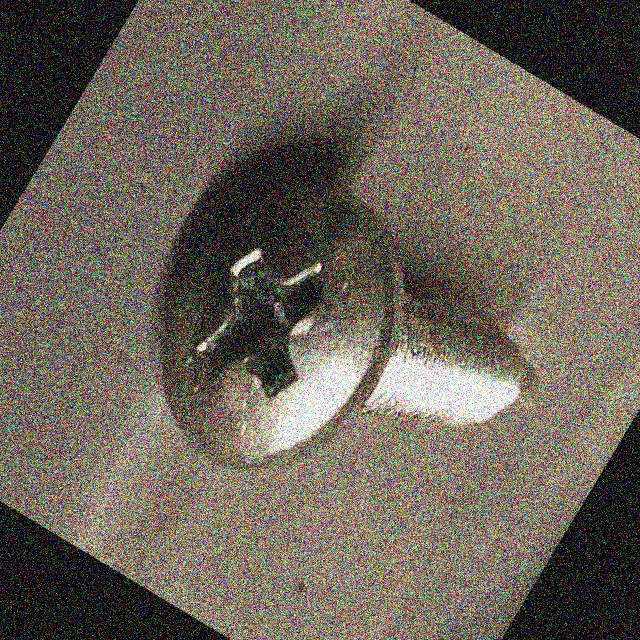phillips: (105, 140, 455, 515)
